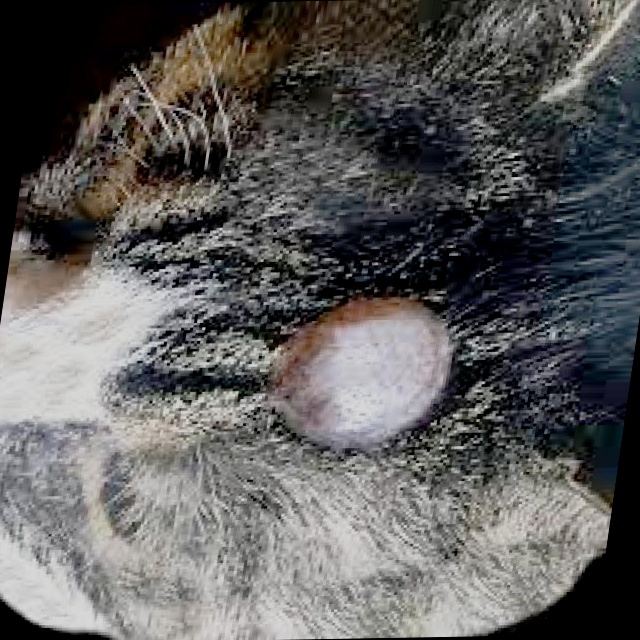lump_and_bump: (256, 291, 478, 446)
